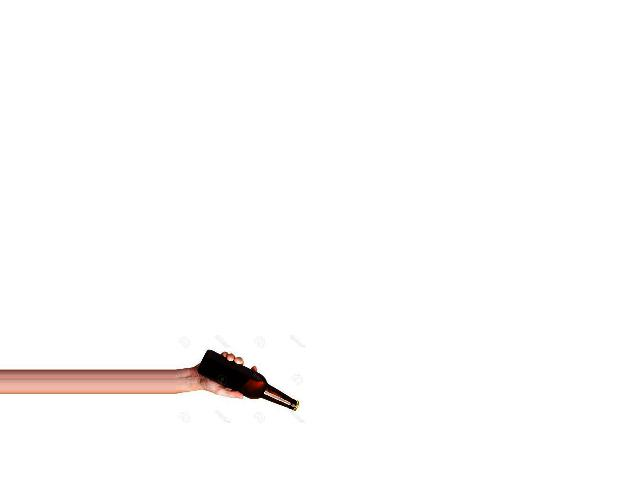beer: (198, 350, 299, 411)
